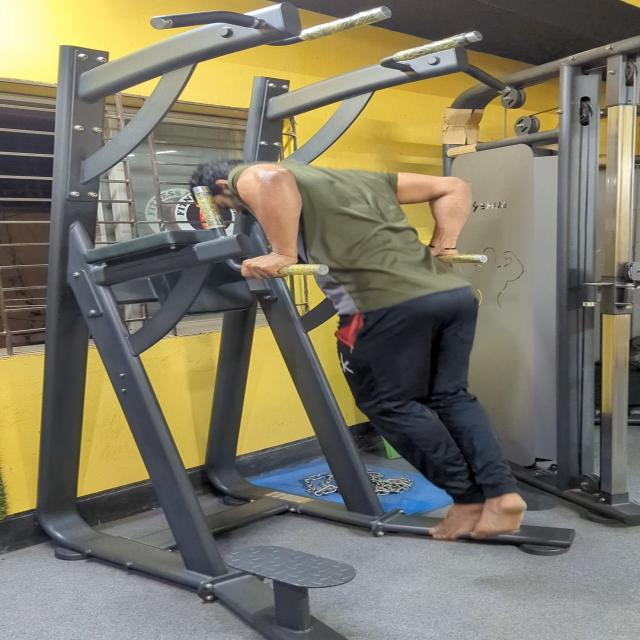Normal_Dips: (106, 119, 598, 570)
